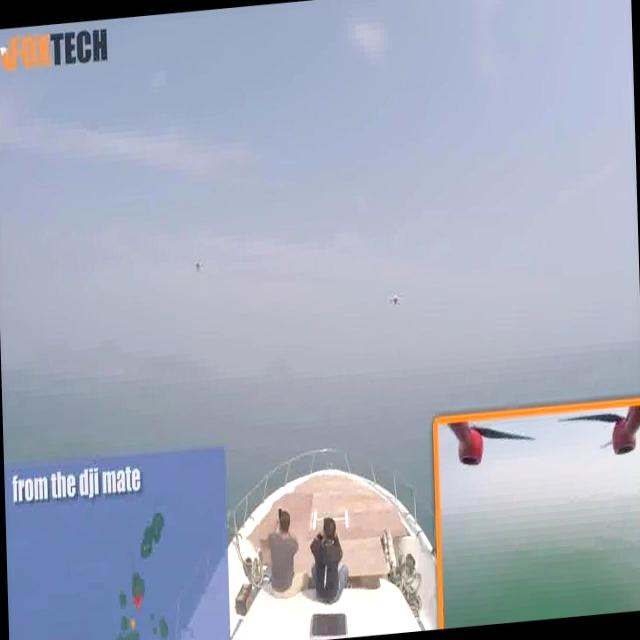drone: (388, 289, 406, 310)
